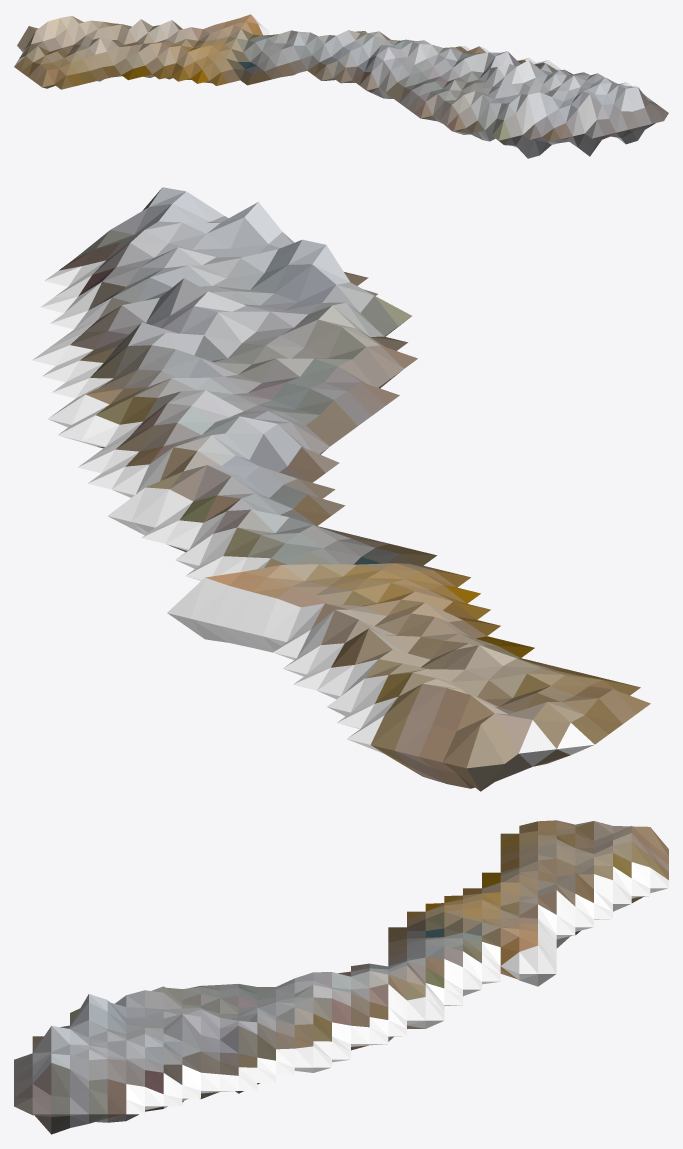
Rendered from stonemachete.fbx.
3 renders of one model, top to bottom at view 1: azimuth 30°, elevation 25°; view 2: azimuth 150°, elevation 25°; view 3: azimuth 270°, elevation 25°, orthographic. The views are drawn at different scales.
Parts seen in each view (by area): view 1: imagetostl_mesh2; view 2: imagetostl_mesh2; view 3: imagetostl_mesh2.
Boxes of the visible parts, x1,y1,x2,y2 form: imagetostl_mesh2: [14, 14, 668, 158]; imagetostl_mesh2: [32, 187, 650, 791]; imagetostl_mesh2: [14, 820, 668, 1134].
Size of the model in its own units: 1.07 by 0.149 by 1.03.
